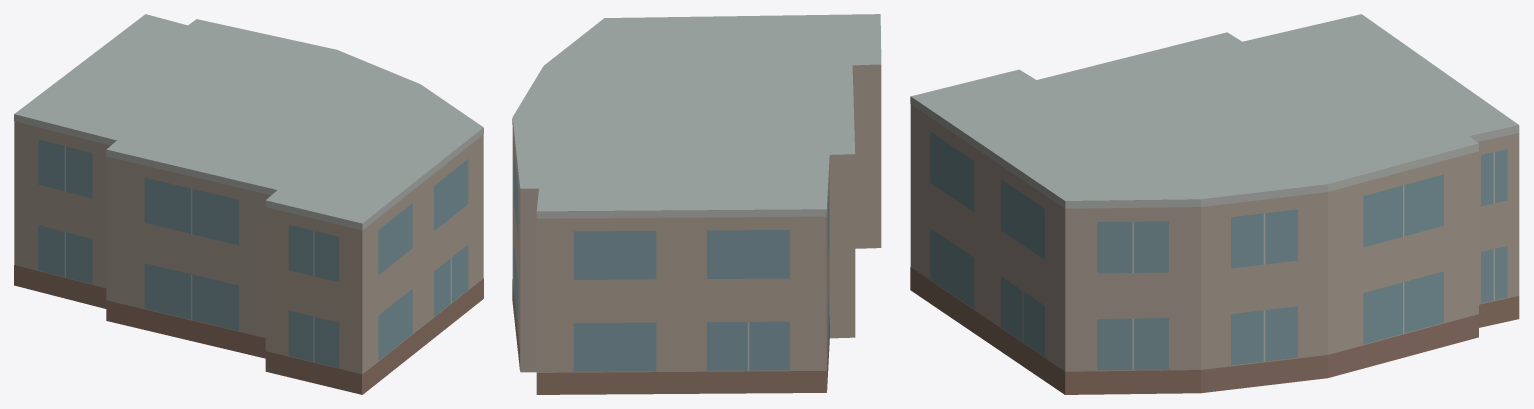
File: survey-upis-32534821.glb
3 views of the same model, side by side, from view 1: azimuth 30°, elevation 25°; view 2: azimuth 150°, elevation 25°; view 3: azimuth 270°, elevation 25° (orthographic). The views are drawn at different scales.
Parts seen in each view (by area): view 1: survey-upis-32534821.tmp; view 2: survey-upis-32534821.tmp; view 3: survey-upis-32534821.tmp.
Boxes of the visible parts, box(x1,y1,x2,y2) form: survey-upis-32534821.tmp: box(14, 14, 483, 394); survey-upis-32534821.tmp: box(512, 14, 881, 394); survey-upis-32534821.tmp: box(910, 14, 1519, 394).
Size of the model in its own units: 12.63 by 6.1 by 17.37.
